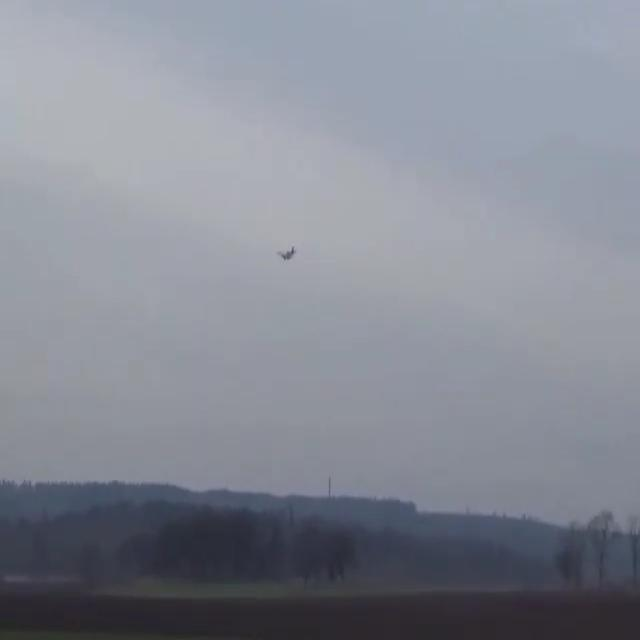AirPlane: (272, 242, 308, 272)
